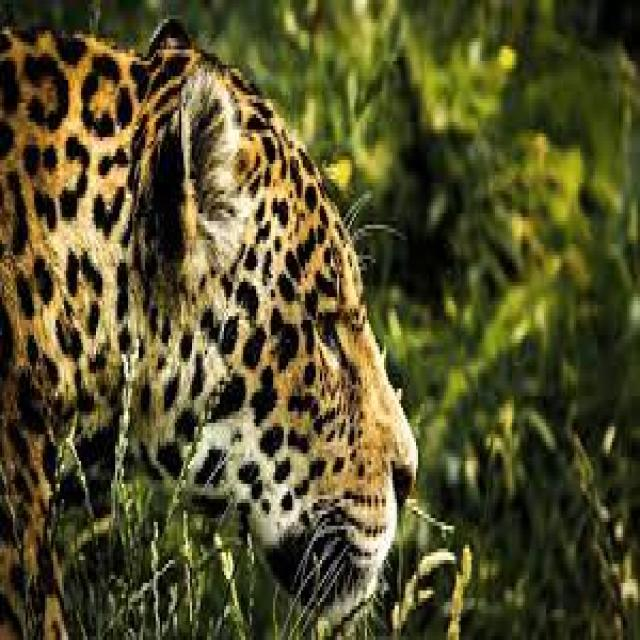Jaguar: (2, 19, 420, 606)
